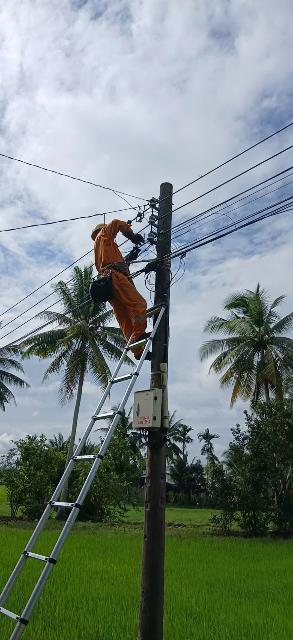gloves: (119, 244, 149, 266), (125, 225, 151, 244)
harness: (97, 262, 140, 274)
helmet: (88, 219, 114, 240)
shoes: (132, 326, 161, 343), (132, 348, 162, 363)
